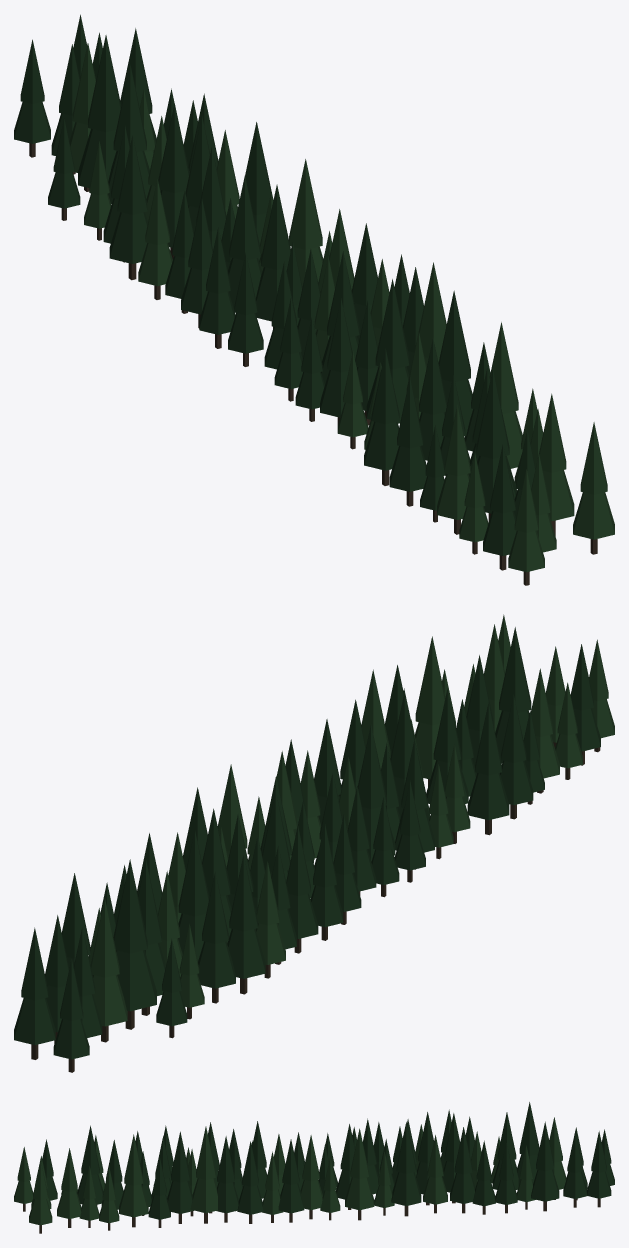
Rendered from forest_edge_16.glb.
The picture shows the model from 3 angles, top to bottom: view 1: azimuth 30°, elevation 25°; view 2: azimuth 150°, elevation 25°; view 3: azimuth 270°, elevation 25°; orthographic projection. The views are drawn at different scales.
Parts seen in each view (by area): view 1: chunk_0_0; view 2: chunk_0_0; view 3: chunk_0_0.
Part boxes in pixels (x1=…): chunk_0_0: x1=14, y1=14, x2=614, y2=585; chunk_0_0: x1=14, y1=614, x2=614, y2=1072; chunk_0_0: x1=14, y1=1102, x2=614, y2=1233.
Size of the model in its own units: 23.25 by 33.13 by 152.
